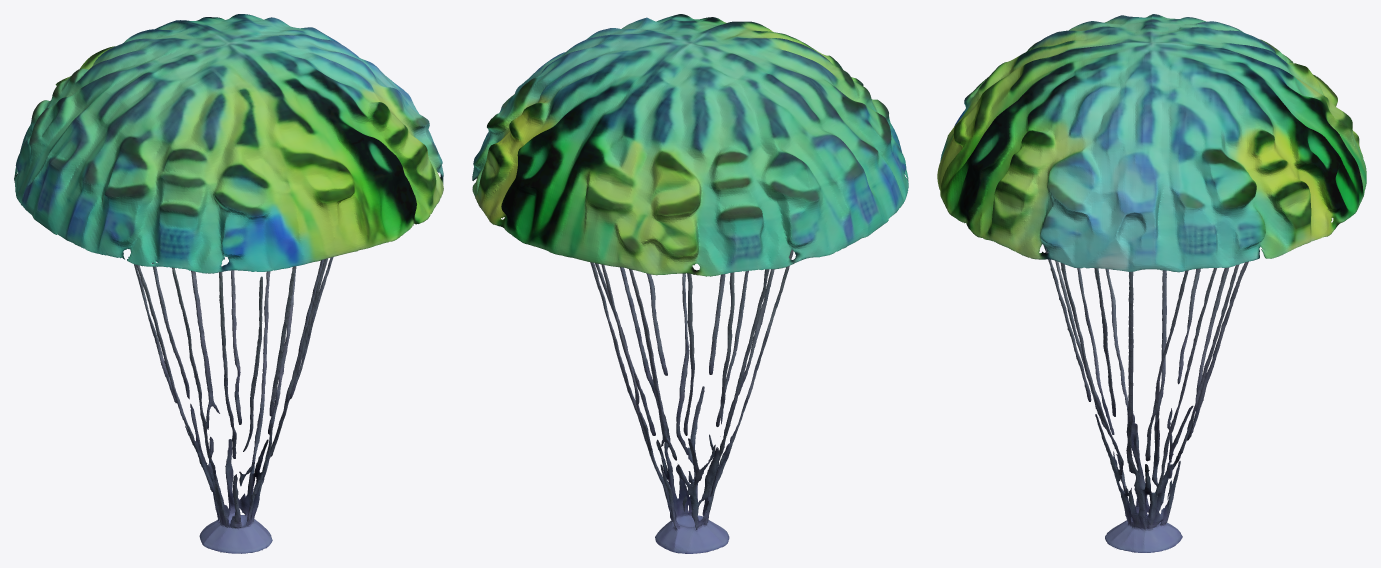
The model's file is parachute.glb.
3 views of the same model, side by side, from view 1: azimuth 30°, elevation 25°; view 2: azimuth 150°, elevation 25°; view 3: azimuth 270°, elevation 25° (orthographic).
Visible parts, largest first — view 1: world; view 2: world; view 3: world.
Boxes of the visible parts, left/top/right/bottom form: world: left=14, top=14, right=443, bottom=553; world: left=472, top=14, right=908, bottom=553; world: left=937, top=14, right=1366, bottom=552.
Size of the model in its own units: 0.7881 by 0.9996 by 0.7872.
